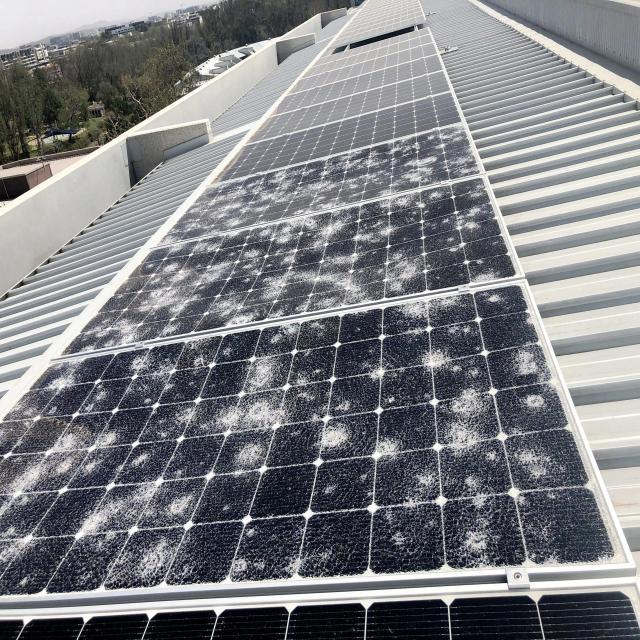faulty: (0, 274, 632, 598), (50, 174, 521, 363), (152, 121, 494, 249), (211, 86, 467, 180)
no faulty: (239, 66, 457, 146), (275, 51, 448, 112)
